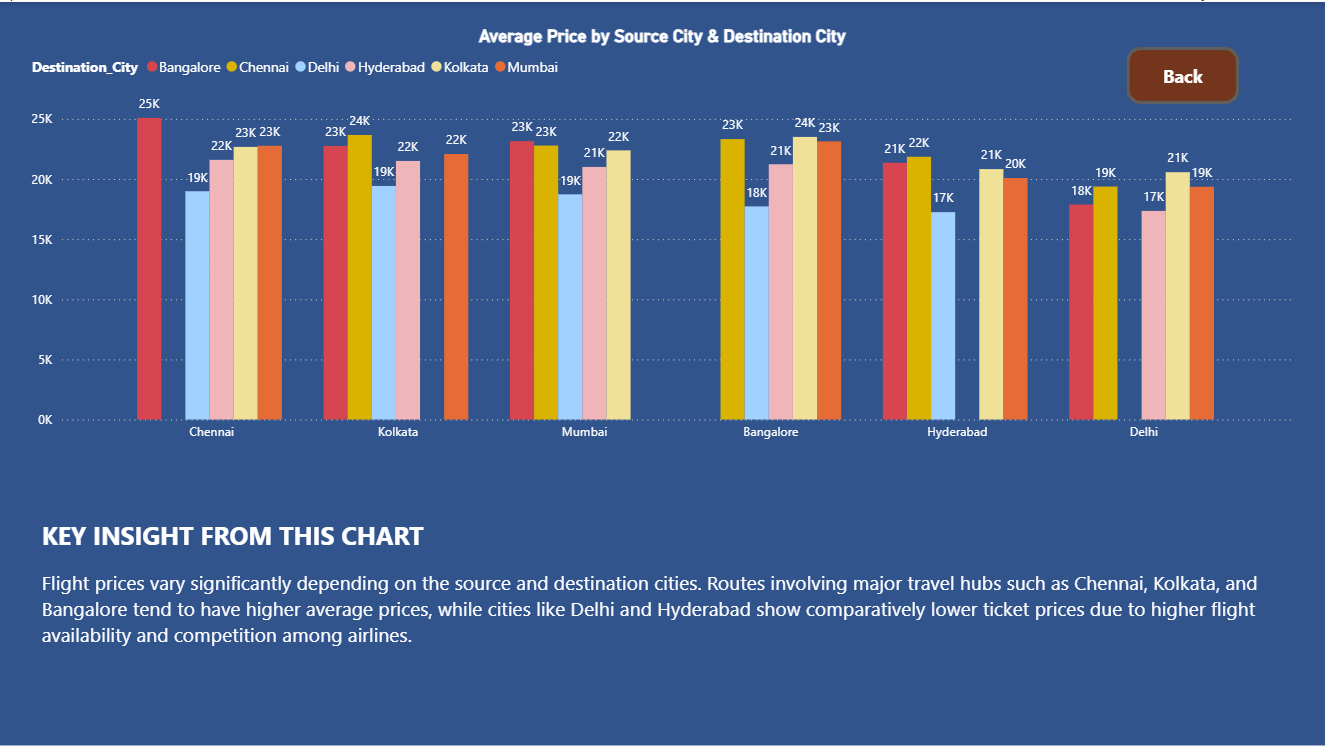

What the dashboard file says about the page in this screenshot:
{"tool":"powerbi","page":{"name":"Detailed Analysis","canvas":[1280,720],"ordinal":1},"visuals":[{"type":"clusteredColumnChart","title":"Average Price by Source City & Destination City","fields":{"Category":["Clean_Dataset.source_city"],"Series":["Clean_Dataset.destination_city"],"Y":["Avg(Clean_Dataset.price)"]},"box":[26.2,22.5,1227.5,410],"z":0},{"type":"actionButton","title":"Back","box":[1088.8,43.8,108.8,55],"z":1},{"type":"textbox","box":[36.2,493.8,1227.5,187.5],"z":2}]}

Visuals, with their boxes in screenshot pixels (x1, y1, x2, y2), scaled from the page's 1280x720 canvas onto the 1325x746 screenshot:
"Average Price by Source City & Destination City" clusteredColumnChart: locate(27, 23, 1298, 448)
"Back" actionButton: locate(1127, 45, 1240, 102)
textbox: locate(37, 512, 1308, 706)
